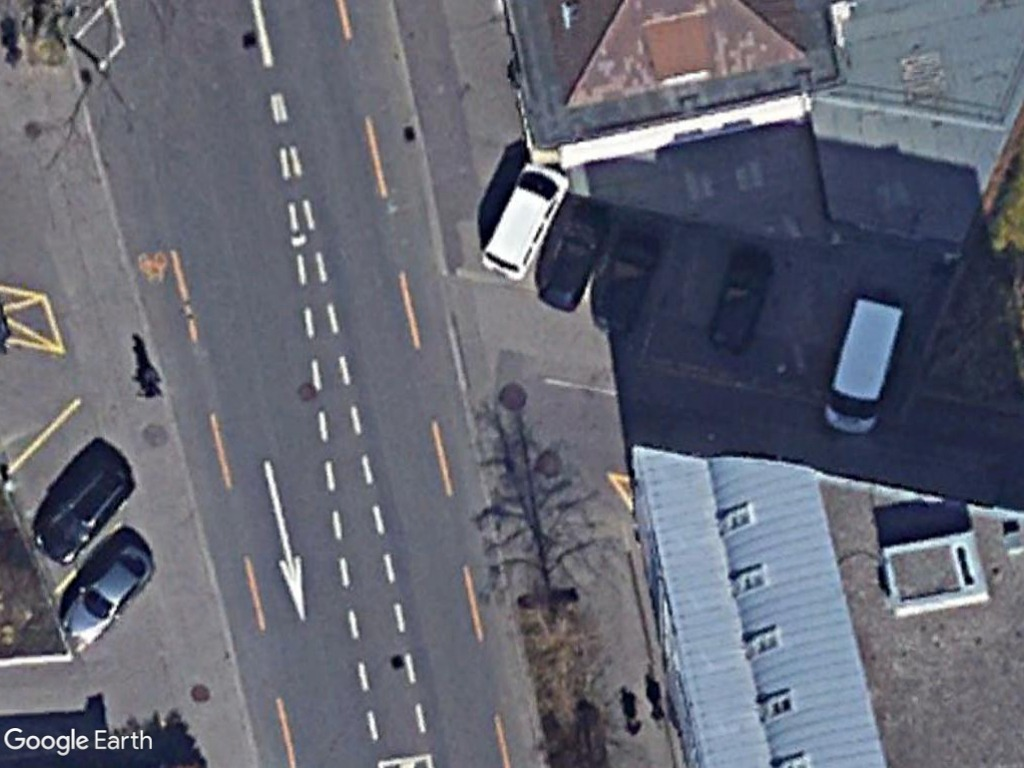car: (56, 542, 160, 646)
van: (476, 158, 576, 286), (818, 296, 907, 437)
